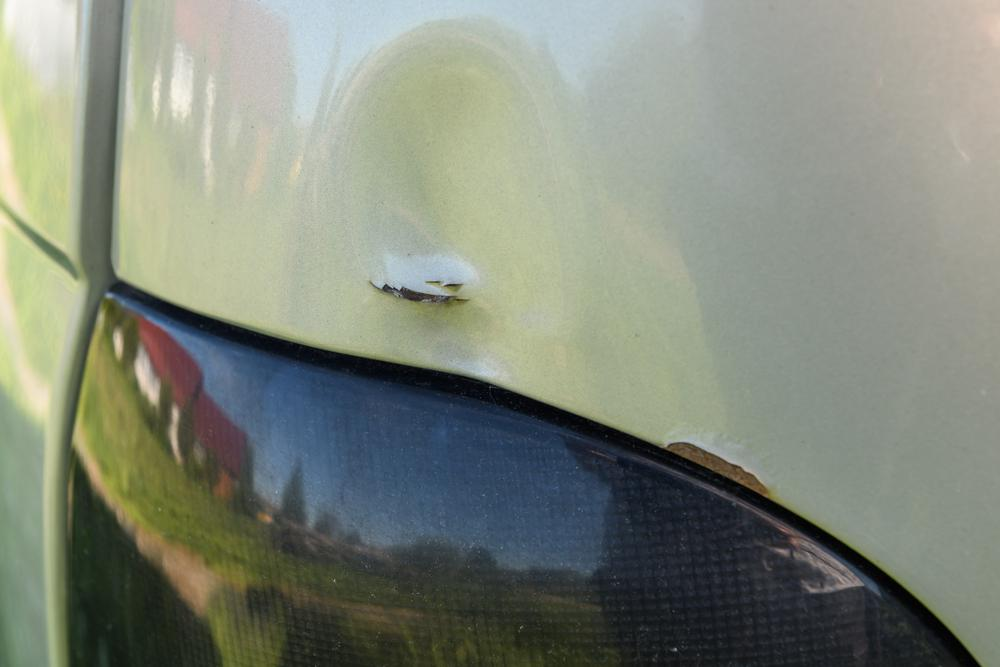dent: (290, 30, 583, 383)
scratch: (778, 528, 866, 603)
